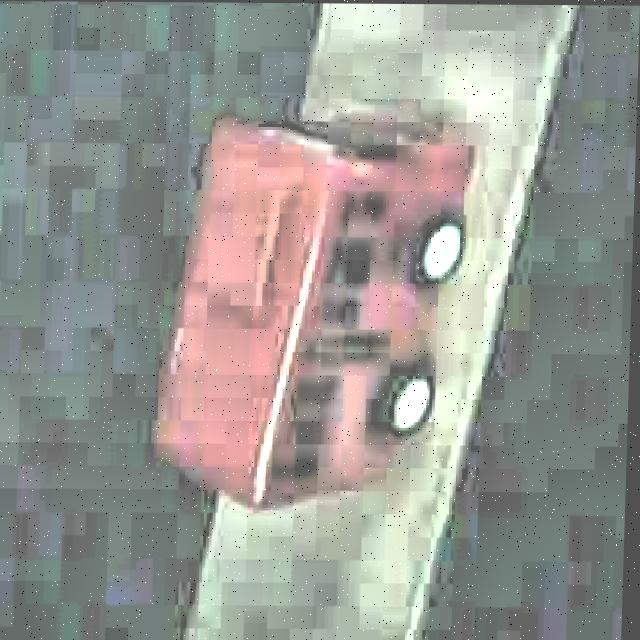bus: (150, 107, 478, 512)
